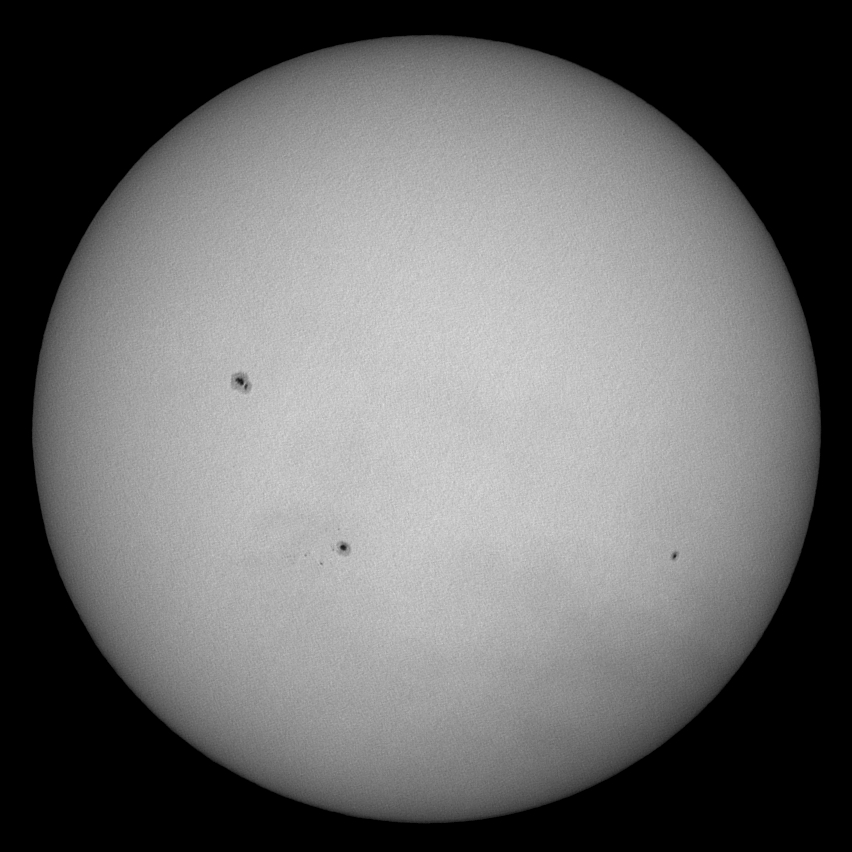sunspot: (228, 369, 254, 395), (333, 538, 355, 559), (665, 544, 682, 561)
